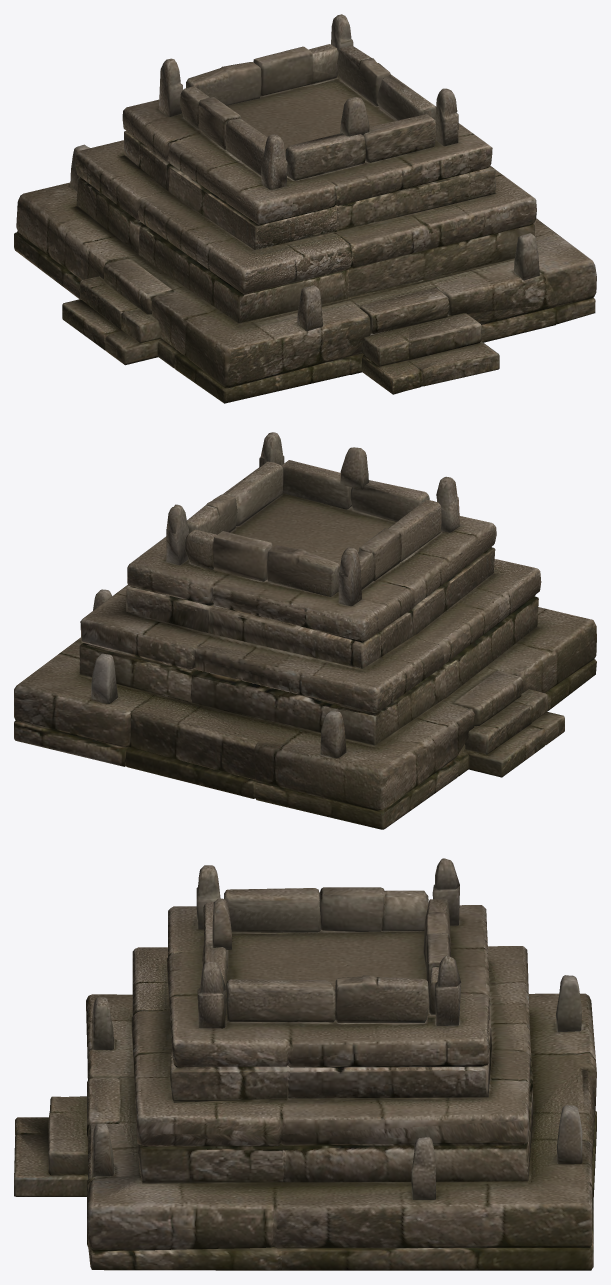
The model's file is kubur-berundak.glb.
The picture shows the model from 3 angles, top to bottom: view 1: azimuth 30°, elevation 25°; view 2: azimuth 150°, elevation 25°; view 3: azimuth 270°, elevation 25°; orthographic projection. The views are drawn at different scales.
Parts seen in each view (by area): view 1: tripo_node_ddd1de64-b202-4f84-9ade-20eb01ccb9b6; view 2: tripo_node_ddd1de64-b202-4f84-9ade-20eb01ccb9b6; view 3: tripo_node_ddd1de64-b202-4f84-9ade-20eb01ccb9b6.
Boxes of the visible parts, x1=… form: tripo_node_ddd1de64-b202-4f84-9ade-20eb01ccb9b6: x1=14, y1=14, x2=596, y2=403; tripo_node_ddd1de64-b202-4f84-9ade-20eb01ccb9b6: x1=14, y1=432, x2=596, y2=829; tripo_node_ddd1de64-b202-4f84-9ade-20eb01ccb9b6: x1=14, y1=858, x2=596, y2=1270.
Bounding box in the file's own units: 0.9629 × 0.498 × 0.998.
Materials: 1 (1 with a texture image).
